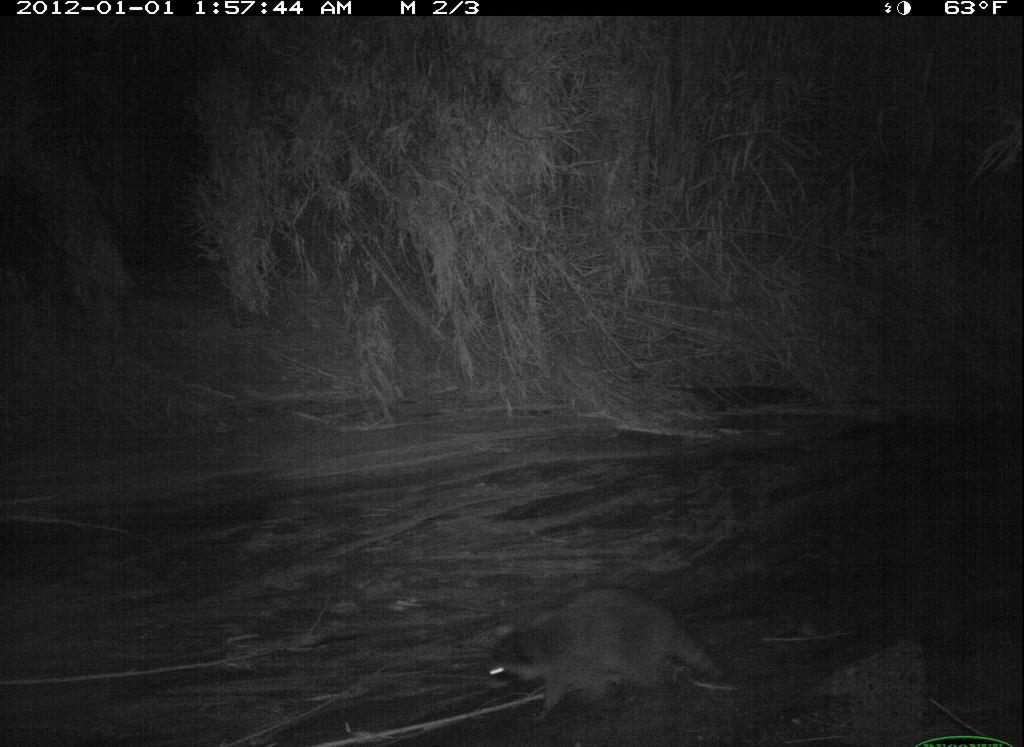raccoon: (475, 585, 739, 733)
